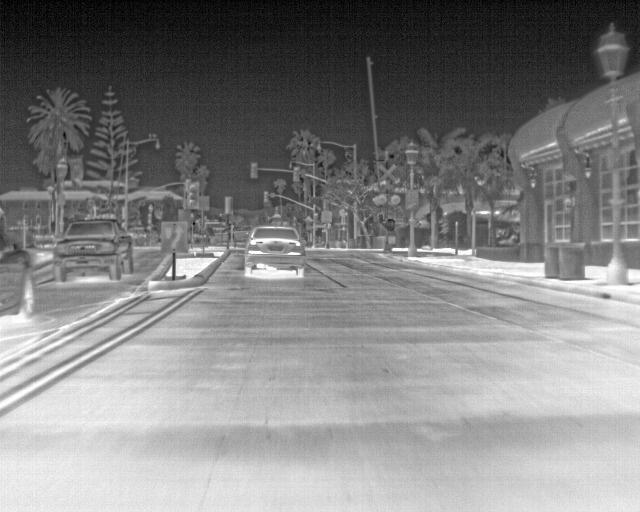bicycle: (50, 217, 135, 283), (242, 224, 309, 276), (0, 232, 36, 318)
